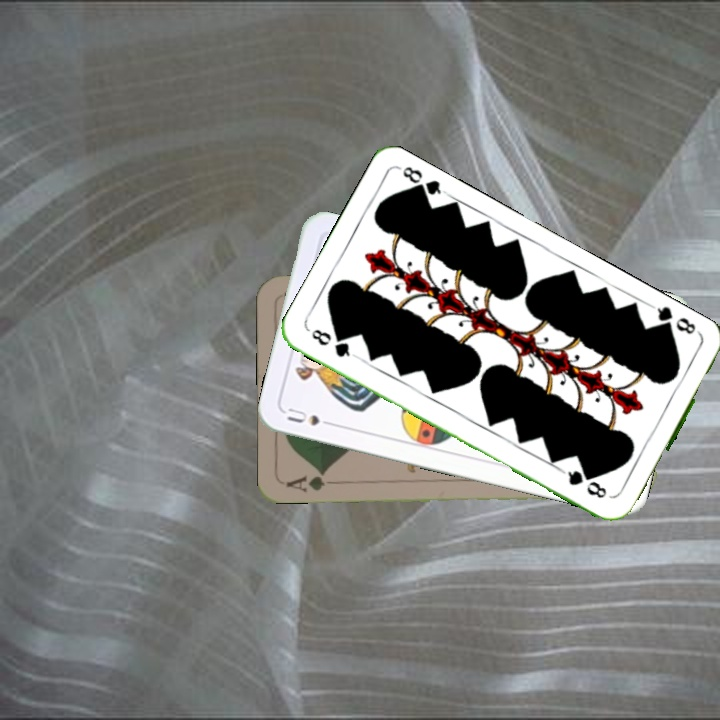G8: (650, 302, 704, 338), (307, 325, 359, 361)
GA: (282, 467, 330, 495)
SU: (283, 404, 340, 429)
